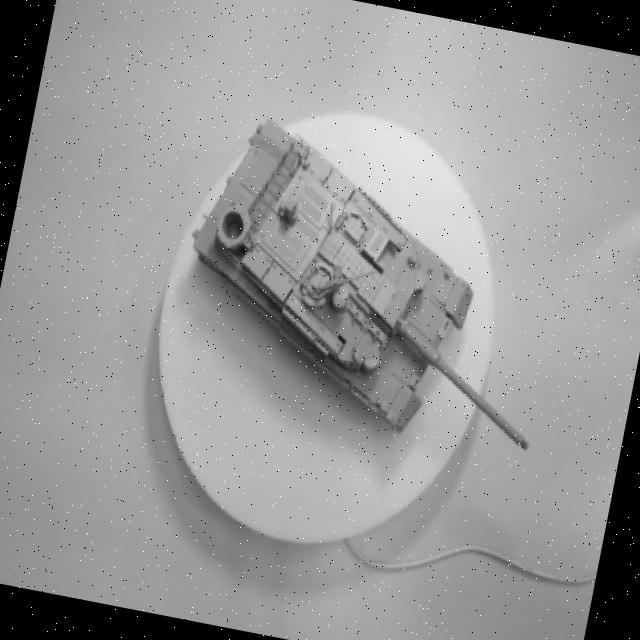korea tank: (114, 91, 590, 482)
